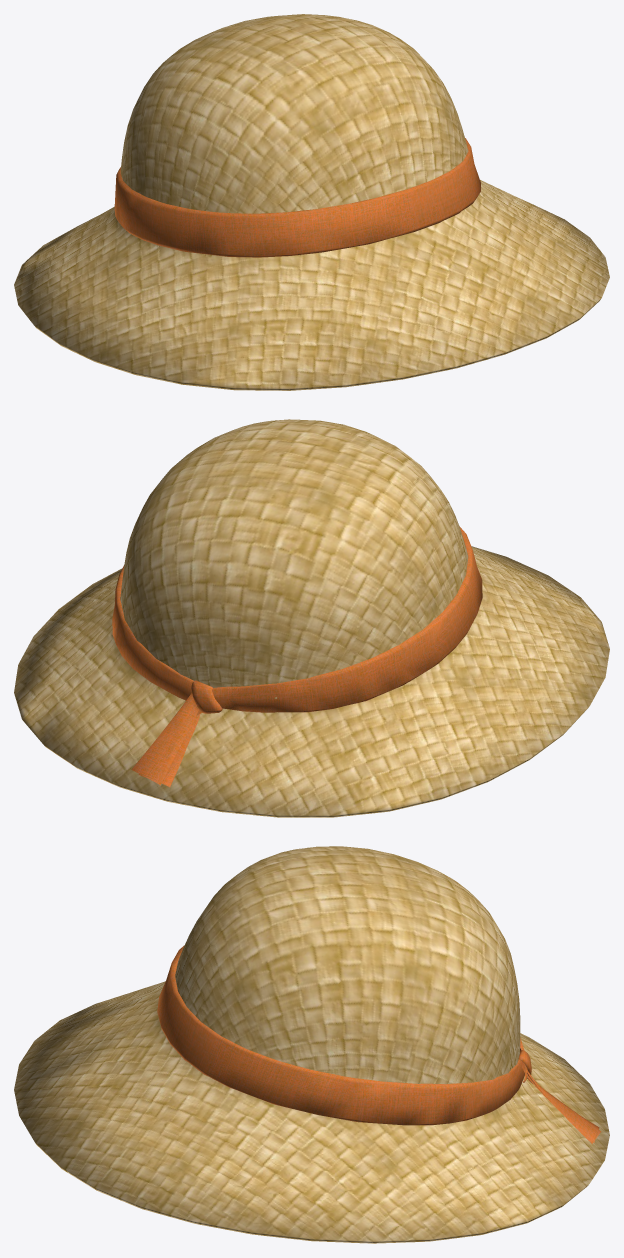
File: StrawHat2Simpler.fbx
3 renders of one model, top to bottom at view 1: azimuth 30°, elevation 25°; view 2: azimuth 150°, elevation 25°; view 3: azimuth 270°, elevation 25°, orthographic. The views are drawn at different scales.
Parts seen in each view (by area): view 1: Cube, Cube.001; view 2: Cube, Cube.001; view 3: Cube, Cube.001.
Boxes of the visible parts, left/top/right/bottom form: Cube: left=14, top=14, right=609, bottom=390; Cube.001: left=114, top=138, right=480, bottom=257; Cube: left=14, top=419, right=609, bottom=817; Cube.001: left=112, top=526, right=482, bottom=787; Cube: left=14, top=846, right=609, bottom=1243; Cube.001: left=157, top=945, right=600, bottom=1144.
Bounding box in the file's own units: 376 × 186 × 374.
